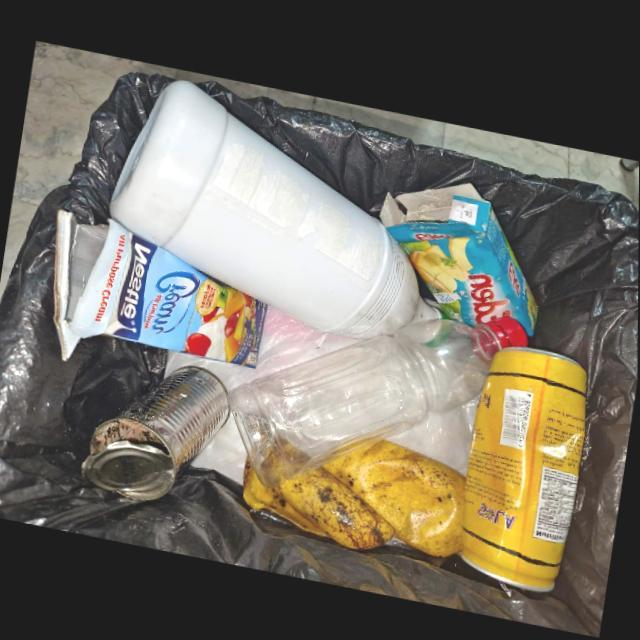biowaste: (244, 433, 468, 554)
metal: (452, 341, 589, 587), (82, 367, 231, 500)
paper: (55, 209, 268, 365), (381, 177, 534, 328)
plastic: (110, 77, 453, 335), (229, 308, 528, 486)
